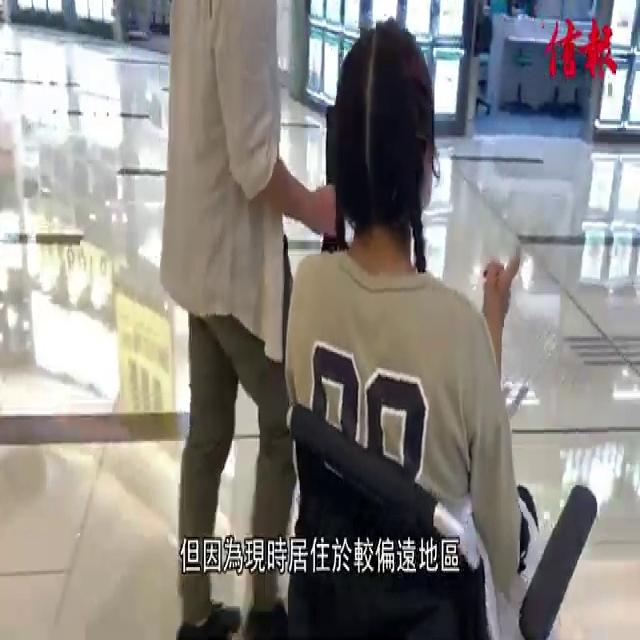wheelchairs: (247, 351, 611, 640)
